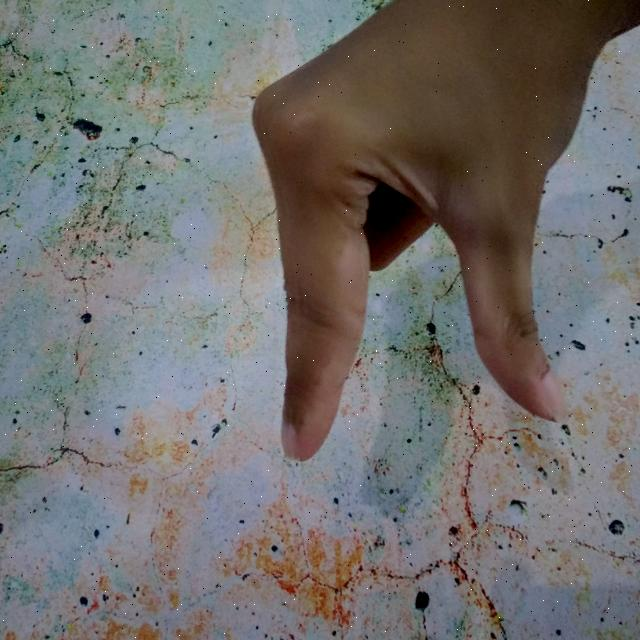Q: (244, 0, 640, 460)
